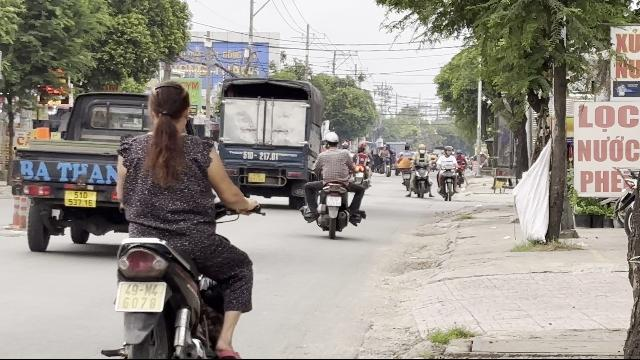helmet: (323, 132, 339, 148)
licenseplate: (116, 282, 166, 312), (326, 196, 342, 206)
motorcyclist: (102, 76, 264, 356), (311, 130, 365, 238)
nohelmet: (145, 82, 193, 130)
